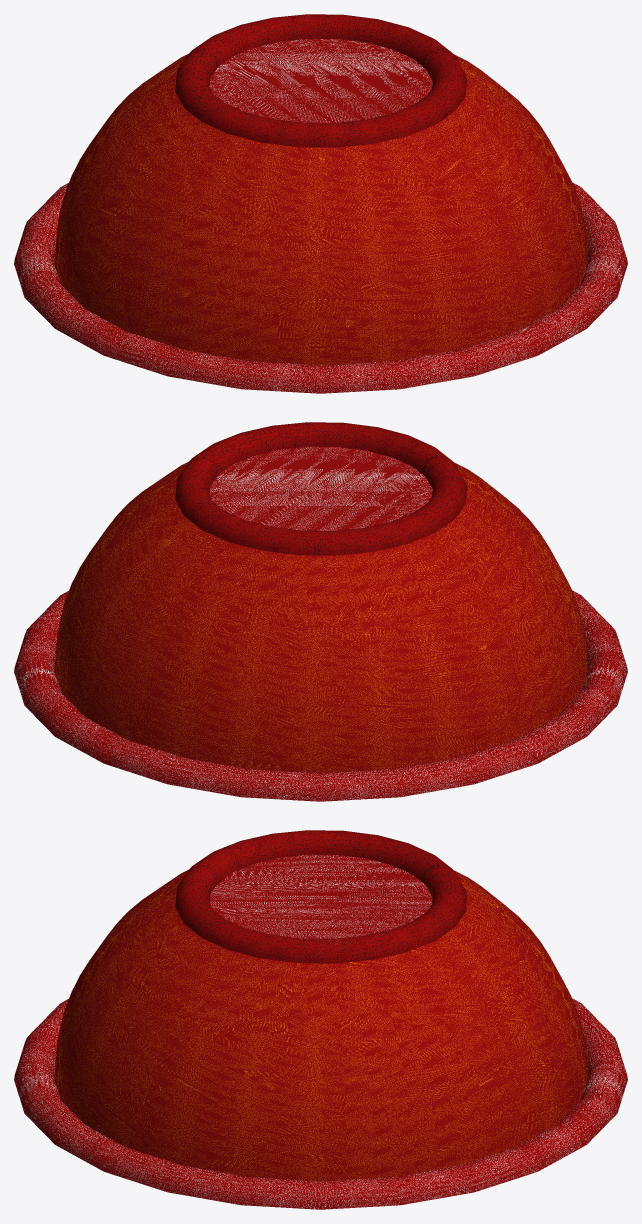
Rendered from orangeButton.dae.
The picture shows the model from 3 angles, top to bottom: view 1: azimuth 30°, elevation 25°; view 2: azimuth 150°, elevation 25°; view 3: azimuth 270°, elevation 25°; orthographic projection.
Parts seen in each view (by area): view 1: group_0 (×4); view 2: group_0 (×4); view 3: group_0 (×4).
Boxes of the visible parts, left/top/right/bottom form: group_0 (×4): left=14, top=14, right=627, bottom=393; group_0 (×4): left=14, top=422, right=627, bottom=801; group_0 (×4): left=14, top=830, right=627, bottom=1209.
Size of the model in its own units: 78.74 by 78.74 by 27.43.
